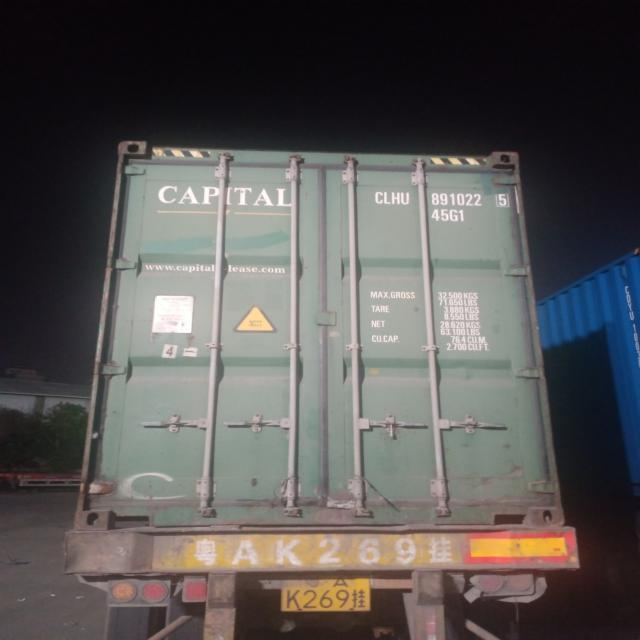ISO: (430, 207, 472, 226)
container_number: (374, 187, 508, 209)
